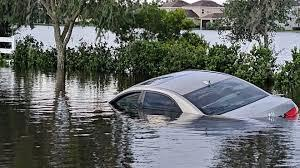water: (0, 67, 299, 167), (266, 31, 299, 71), (16, 23, 55, 50), (196, 29, 235, 52), (67, 27, 97, 49), (98, 29, 119, 48), (240, 39, 257, 55), (61, 26, 65, 33)
